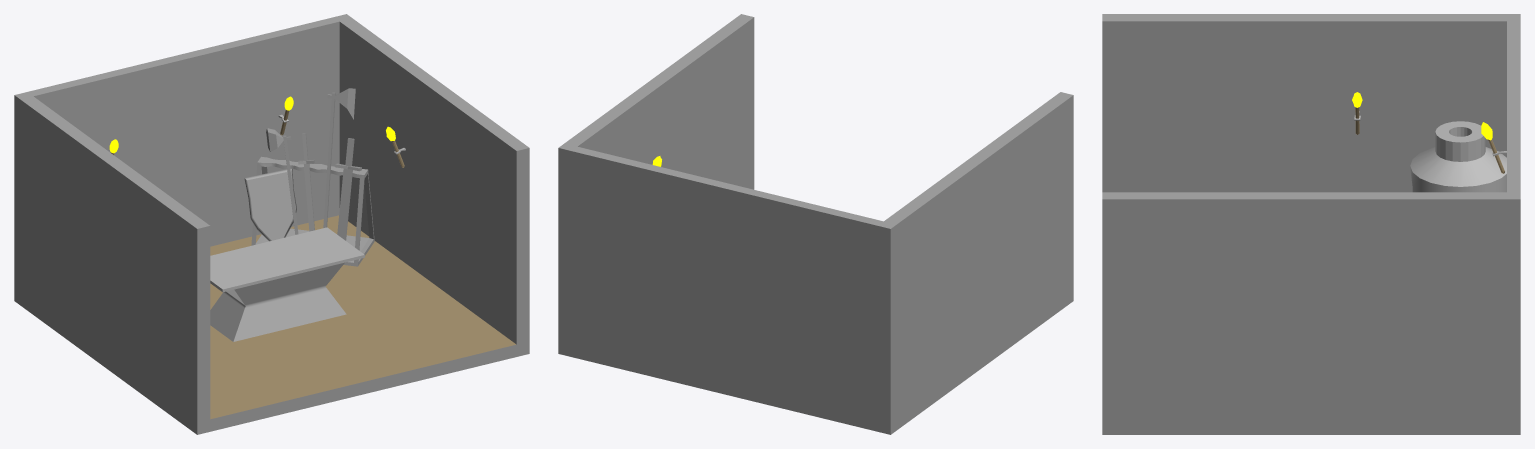
The model's file is Room RSZ.fbx.
3 renders of one model, left to right at view 1: azimuth 30°, elevation 25°; view 2: azimuth 150°, elevation 25°; view 3: azimuth 270°, elevation 25°, orthographic. The views are drawn at different scales.
Visible parts, largest first — view 1: Room, Anvil, Shield, Stand, Sword, Axe, Axe1, Sword1; view 2: Room; view 3: Room, Forge.
Part boxes in pixels (<box>): Room: <box>14,14,529,434</box>; Anvil: <box>210,227,364,341</box>; Shield: <box>244,168,296,241</box>; Stand: <box>251,156,374,266</box>; Sword: <box>335,138,361,240</box>; Axe: <box>323,88,355,227</box>; Axe1: <box>266,128,298,234</box>; Sword1: <box>298,133,314,231</box>; Room: <box>558,14,1073,434</box>; Room: <box>1102,14,1520,434</box>; Forge: <box>1410,121,1506,192</box>.
Size of the model in its own units: 3154 by 1868 by 3006.
